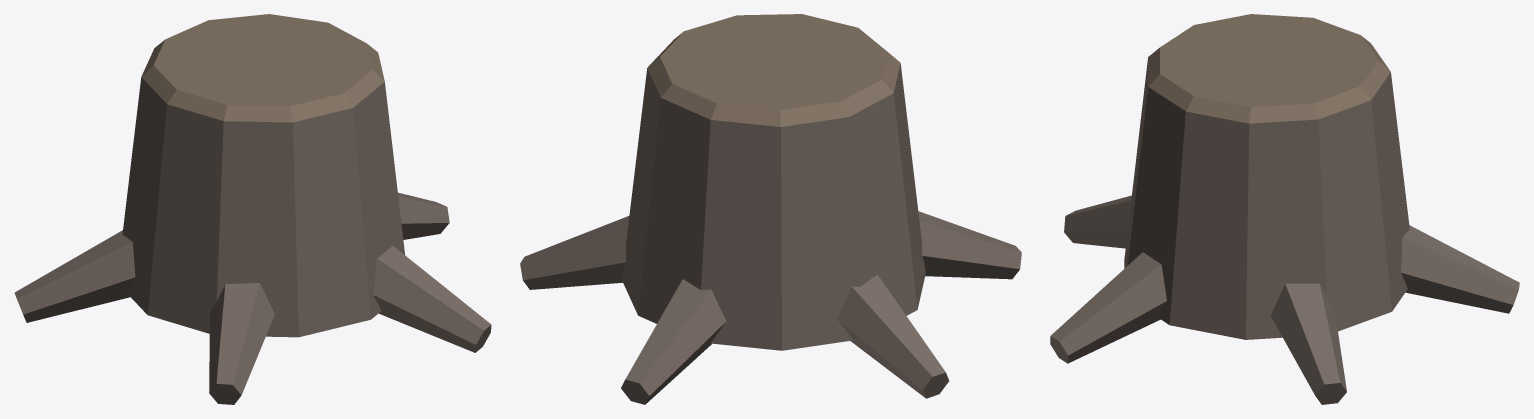
The model's file is Stump.fbx.
3 views of the same model, side by side, from view 1: azimuth 30°, elevation 25°; view 2: azimuth 150°, elevation 25°; view 3: azimuth 270°, elevation 25° (orthographic). The views are drawn at different scales.
Parts seen in each view (by area): view 1: Stump; view 2: Stump; view 3: Stump.
Boxes of the visible parts, x1=… form: Stump: x1=14, y1=14, x2=491, y2=404; Stump: x1=520, y1=14, x2=1021, y2=404; Stump: x1=1050, y1=14, x2=1519, y2=404.
Size of the model in its own units: 117 by 65.25 by 114.
